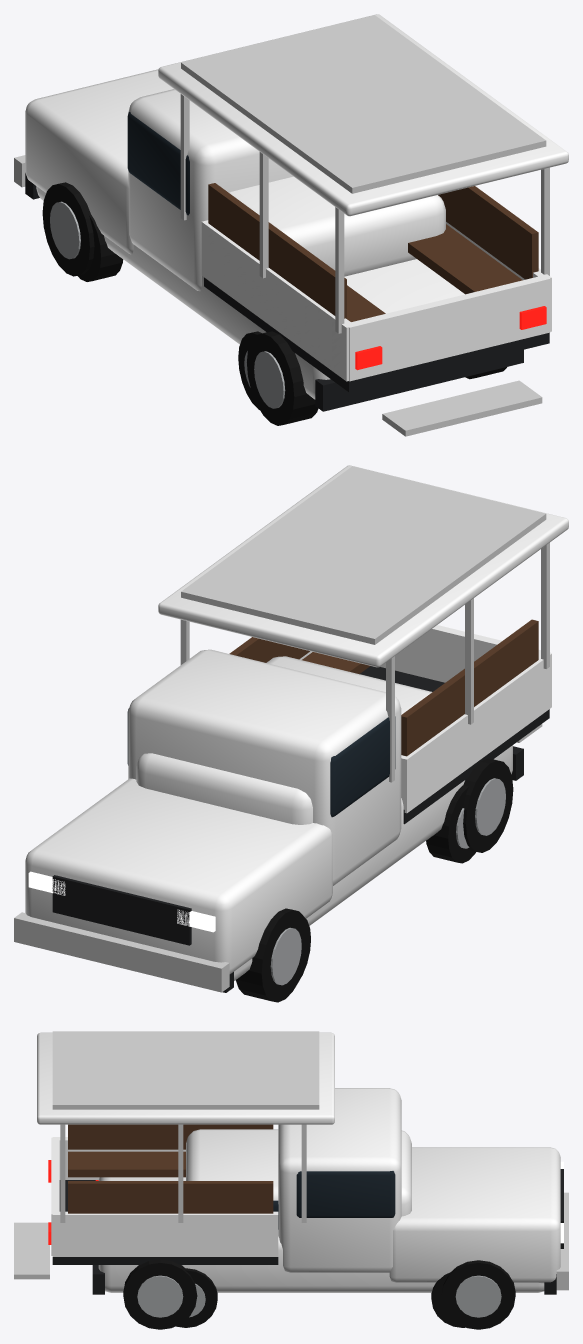
File: vehicles.glb
The picture shows the model from 3 angles, top to bottom: view 1: azimuth 30°, elevation 25°; view 2: azimuth 150°, elevation 25°; view 3: azimuth 270°, elevation 25°; orthographic projection. The views are drawn at different scales.
Parts seen in each view (by area): view 1: Songthaew, Pickup, Sedan; view 2: Pickup, Songthaew, Sedan; view 3: Pickup, Songthaew, Sedan.
Part boxes in pixels (x1,y1,x2,y2): Songthaew: [158, 14, 568, 436]; Pickup: [14, 69, 551, 425]; Sedan: [25, 173, 523, 411]; Pickup: [14, 625, 551, 1002]; Songthaew: [158, 465, 568, 782]; Sedan: [136, 656, 523, 992]; Pickup: [48, 1088, 568, 1329]; Songthaew: [14, 1031, 334, 1279]; Sedan: [92, 1129, 556, 1327].
Bounding box in the file's own units: 1.95 × 2.37 × 5.4.
